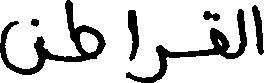X: (0, 14, 43, 79), (66, 0, 103, 66), (139, 40, 164, 82), (211, 8, 227, 63), (129, 0, 137, 82), (253, 0, 263, 59), (238, 4, 246, 61)
